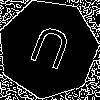U: (23, 24, 75, 80)
